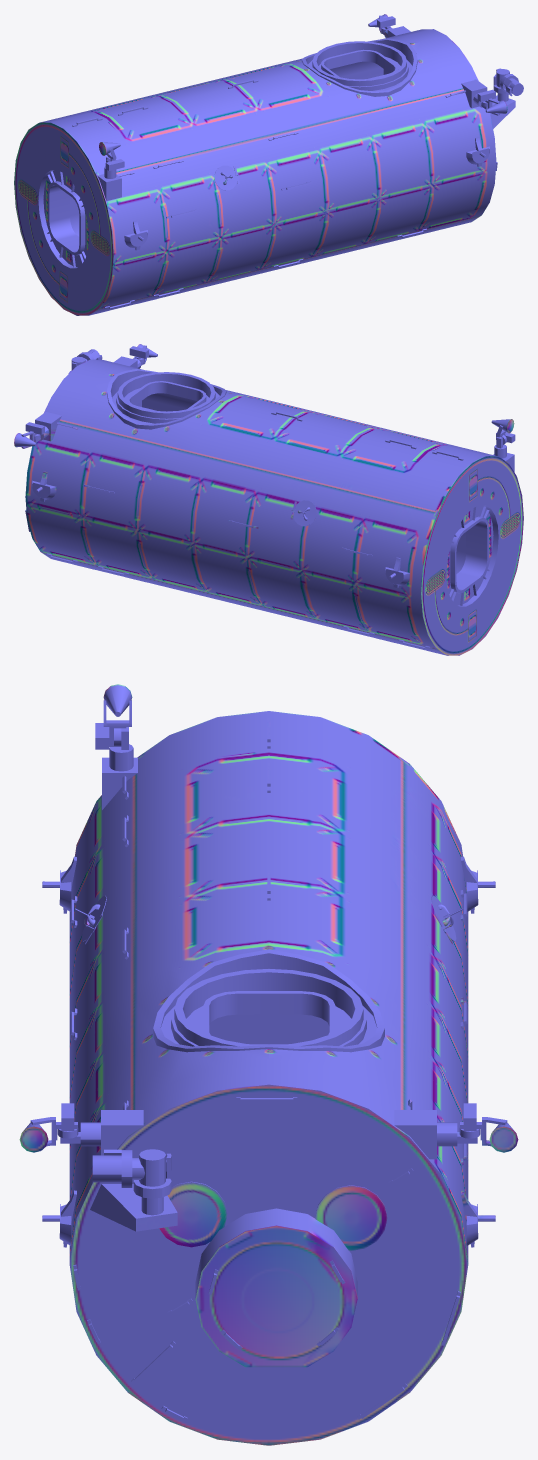
File: IssModule_D.FBX
3 views of the same model, one above another, from view 1: azimuth 30°, elevation 25°; view 2: azimuth 150°, elevation 25°; view 3: azimuth 270°, elevation 25° (orthographic). The views are drawn at different scales.
Visible parts, largest first — view 1: IssModule_D; view 2: IssModule_D; view 3: IssModule_D.
Boxes of the visible parts, x1,y1,x2,y2 form: IssModule_D: (14, 14, 523, 315); IssModule_D: (14, 344, 523, 655); IssModule_D: (19, 684, 518, 1445).
Size of the model in its own units: 608 by 286 by 314.
